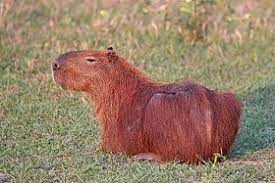capivara: (51, 47, 242, 165)
